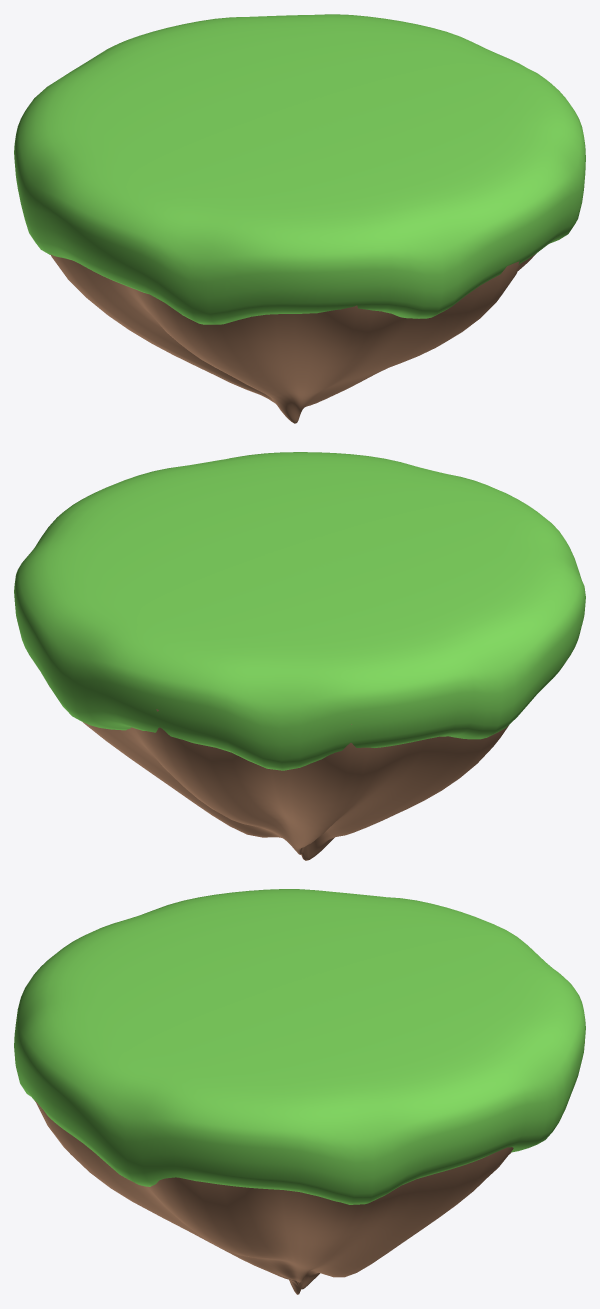
File: island.glb
The picture shows the model from 3 angles, top to bottom: view 1: azimuth 30°, elevation 25°; view 2: azimuth 150°, elevation 25°; view 3: azimuth 270°, elevation 25°; orthographic projection.
Parts seen in each view (by area): view 1: Top, Under; view 2: Top, Under; view 3: Top, Under.
Boxes of the visible parts, x1,y1,x2,y2 form: Top: (14, 14, 585, 324); Under: (50, 253, 536, 423); Top: (14, 452, 585, 770); Under: (83, 709, 508, 860); Top: (14, 889, 585, 1204); Under: (35, 1043, 584, 1294).
Size of the model in its own units: 2.02 by 1.21 by 2.02.
